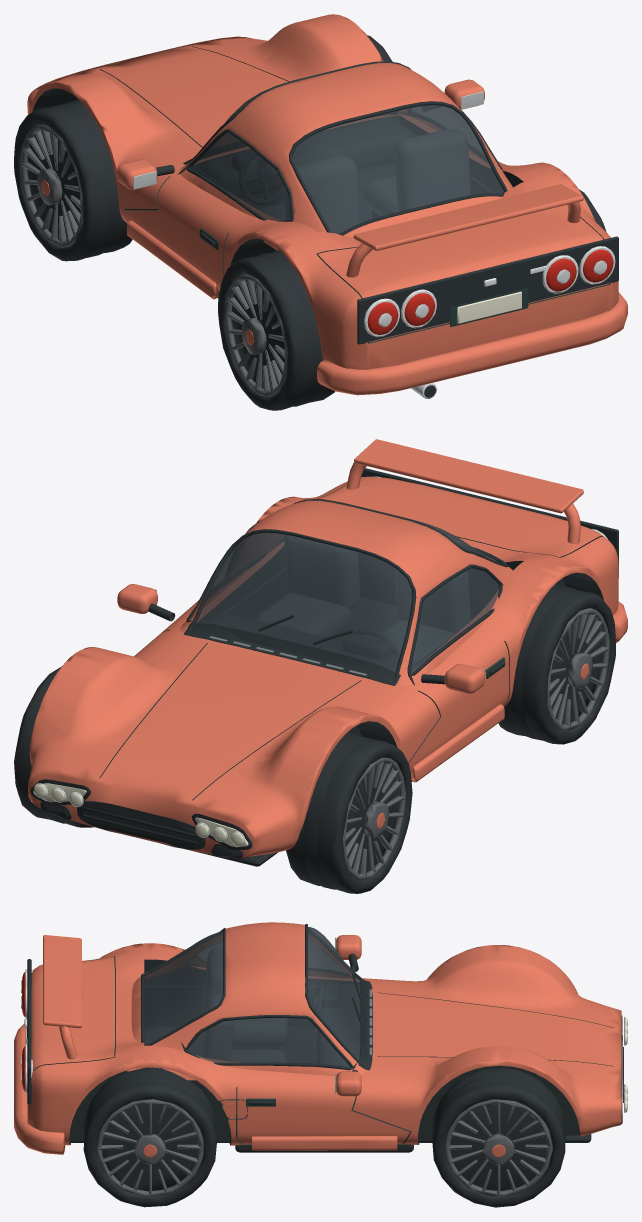
The model's file is hoshi_lod2.fbx.
3 renders of one model, top to bottom at view 1: azimuth 30°, elevation 25°; view 2: azimuth 150°, elevation 25°; view 3: azimuth 270°, elevation 25°, orthographic. The views are drawn at different scales.
Visible parts, largest first — view 1: Body, Wheel_FL_Mesh, Wheel_RL_Mesh; view 2: Body, Wheel_FL_Mesh, Wheel_RL_Mesh, Wheel_FR_Mesh; view 3: Body, Wheel_FR_Mesh, Wheel_RR_Mesh.
Boxes of the visible parts, box(x1,y1,x2,y2) form: Body: box(27, 14, 627, 399); Wheel_FL_Mesh: box(14, 99, 132, 261); Wheel_RL_Mesh: box(218, 250, 334, 410); Body: box(28, 439, 627, 866); Wheel_FL_Mesh: box(286, 732, 412, 893); Wheel_RL_Mesh: box(498, 584, 615, 744); Wheel_FR_Mesh: box(14, 666, 94, 827); Body: box(14, 922, 627, 1154); Wheel_FR_Mesh: box(432, 1067, 565, 1207); Wheel_RR_Mesh: box(83, 1067, 216, 1207).
Size of the model in its own units: 233 by 143 by 405.
